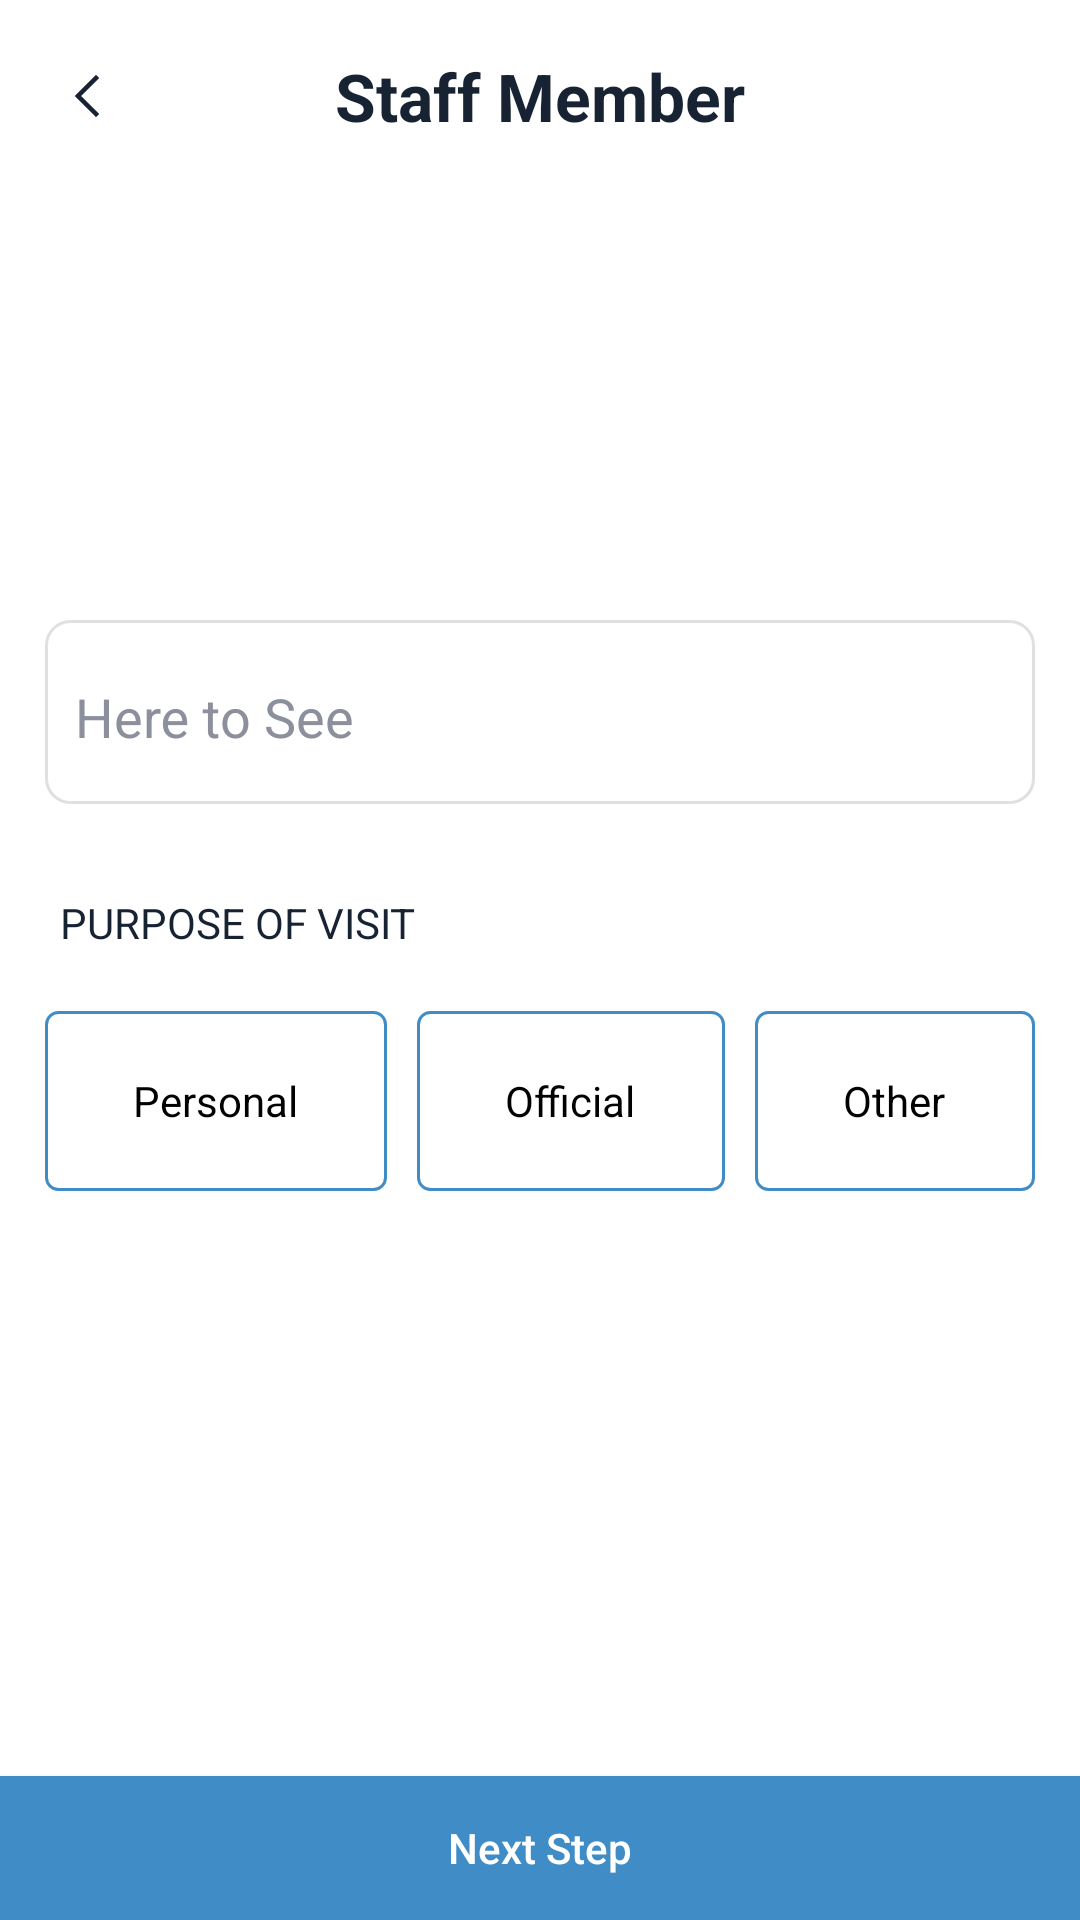

Named icons in this screenshot (1080x1920) and their bounding boxes, bbox(x1, y1, x2, y2):
back: bbox(75, 75, 99, 117)
